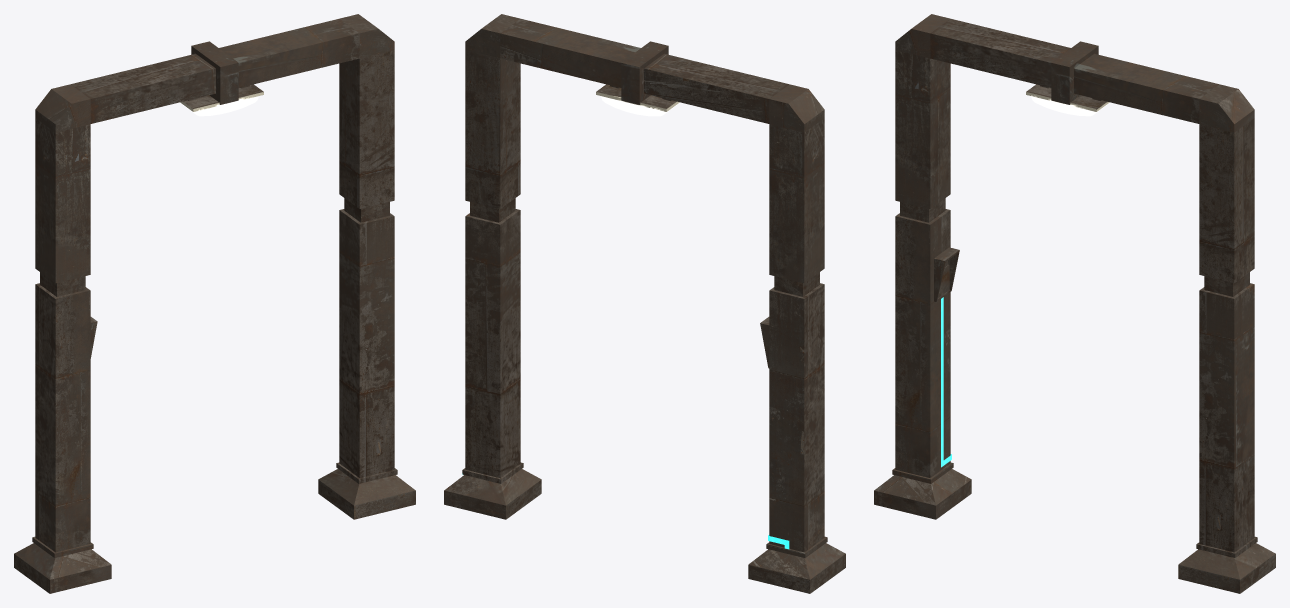
Rendered from LightPost1.glb.
3 renders of one model, left to right at view 1: azimuth 30°, elevation 25°; view 2: azimuth 150°, elevation 25°; view 3: azimuth 330°, elevation 25°, orthographic.
Parts seen in each view (by area): view 1: Plane; view 2: Plane; view 3: Plane.
Part boxes in pixels (left/top/right/bottom): Plane: left=14, top=14, right=415, bottom=593; Plane: left=444, top=14, right=845, bottom=593; Plane: left=874, top=14, right=1275, bottom=593.
Size of what is drawn, in the model's own units: 2.41 by 3.03 by 0.4073.
1 material, 1 textured.
